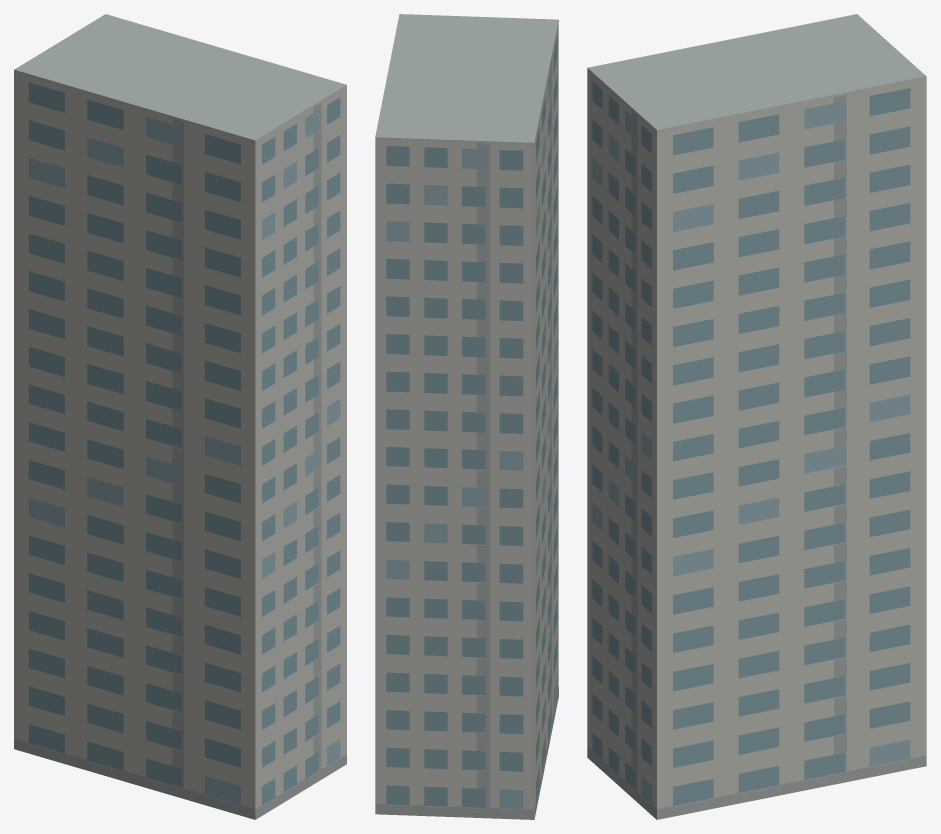
Rendered from residential-e8eaf1d5-e40c-4533-a558-ba1d46746d2d.glb.
3 renders of one model, left to right at view 1: azimuth 30°, elevation 25°; view 2: azimuth 150°, elevation 25°; view 3: azimuth 270°, elevation 25°, orthographic.
Parts seen in each view (by area): view 1: residential-e8eaf1d5-e40c-4533-a558-ba1d46746d2d.tmp; view 2: residential-e8eaf1d5-e40c-4533-a558-ba1d46746d2d.tmp; view 3: residential-e8eaf1d5-e40c-4533-a558-ba1d46746d2d.tmp.
Part boxes in pixels (x1,y1,x2,y2): residential-e8eaf1d5-e40c-4533-a558-ba1d46746d2d.tmp: (14,14,346,819); residential-e8eaf1d5-e40c-4533-a558-ba1d46746d2d.tmp: (375,14,558,819); residential-e8eaf1d5-e40c-4533-a558-ba1d46746d2d.tmp: (587,14,926,819).
Bounding box in the file's own units: 23.44 × 65 × 28.97.
